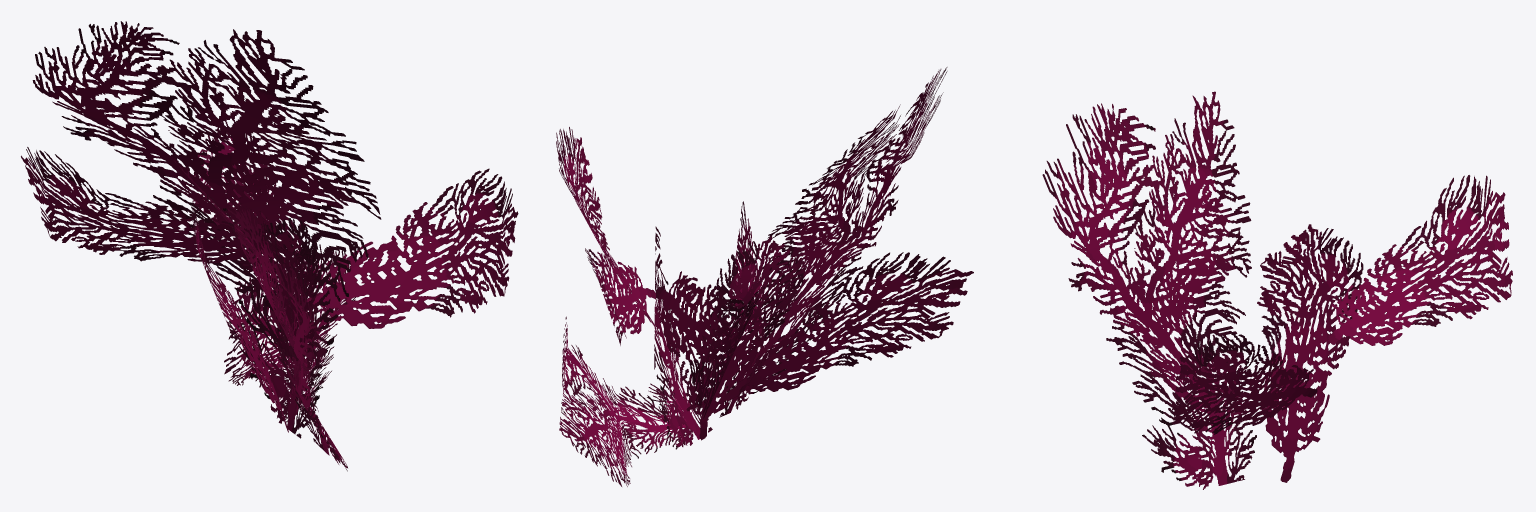
The model's file is Seafan 2_preview_3DS_simplified.glb.
3 renders of one model, left to right at view 1: azimuth 30°, elevation 25°; view 2: azimuth 150°, elevation 25°; view 3: azimuth 270°, elevation 25°, orthographic. The views are drawn at different scales.
Visible parts, largest first — view 1: Marine Park Empire model; view 2: Marine Park Empire model; view 3: Marine Park Empire model.
Boxes of the visible parts, bbox=[...] form: Marine Park Empire model: bbox=[21, 21, 518, 471]; Marine Park Empire model: bbox=[556, 67, 973, 486]; Marine Park Empire model: bbox=[1042, 91, 1512, 489].
Bounding box in the file's own units: 174 × 197 × 214.
Materials: 1 (1 with a texture image).
